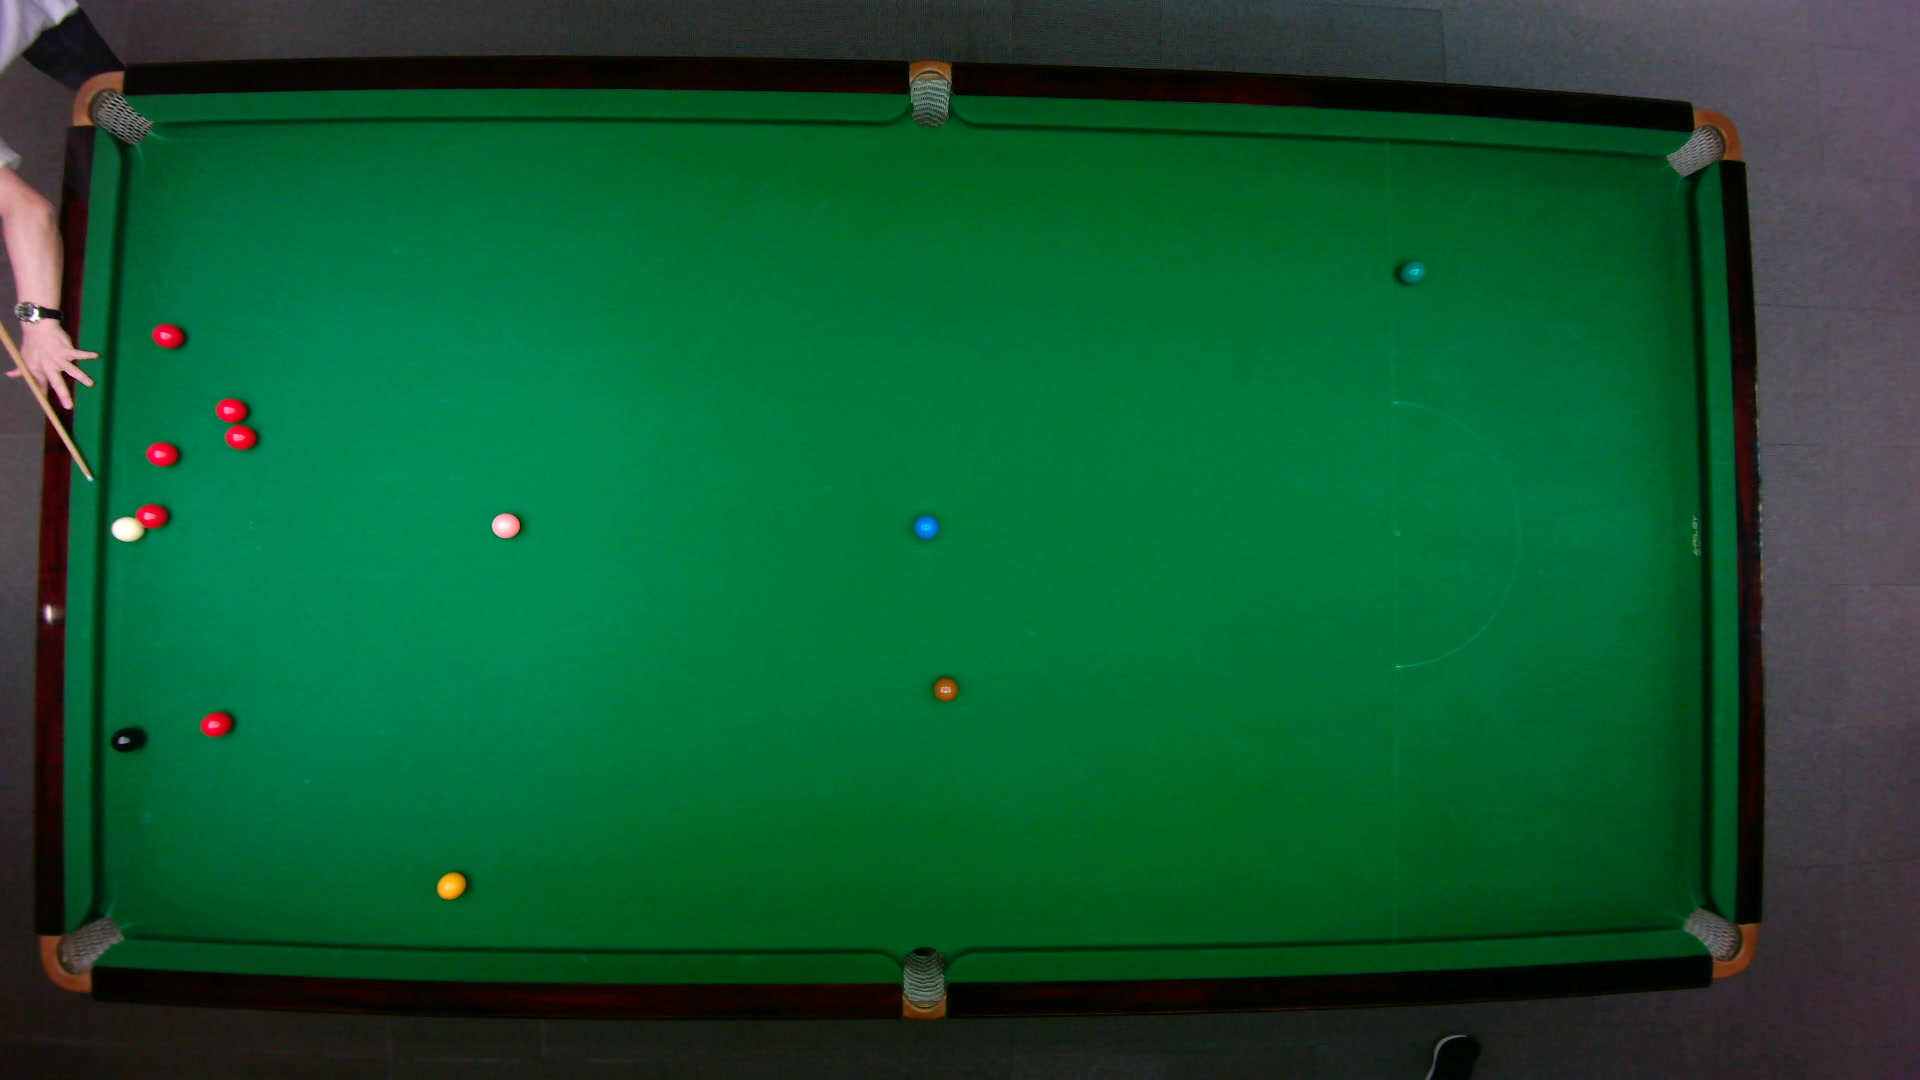bag: (40, 913, 127, 994), (71, 71, 156, 146), (1679, 906, 1760, 980), (1664, 108, 1742, 179), (901, 945, 945, 1022), (909, 59, 951, 129)
black: (109, 727, 141, 754)
blue: (913, 514, 940, 541)
brown: (934, 676, 957, 702)
cue: (0, 319, 98, 483)
green: (1396, 258, 1428, 286)
pink: (489, 512, 522, 541)
red: (144, 440, 181, 469), (150, 322, 187, 349), (214, 397, 251, 425), (223, 425, 258, 452), (135, 502, 170, 530), (198, 709, 233, 737)
white: (109, 516, 146, 545)
yellow: (435, 870, 468, 902)
zone: (1391, 401, 1520, 670)
